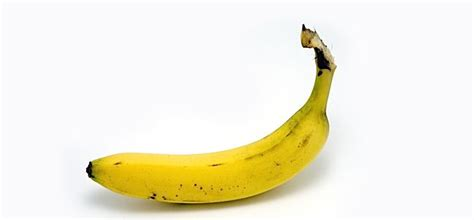banana: (83, 99, 333, 208)
